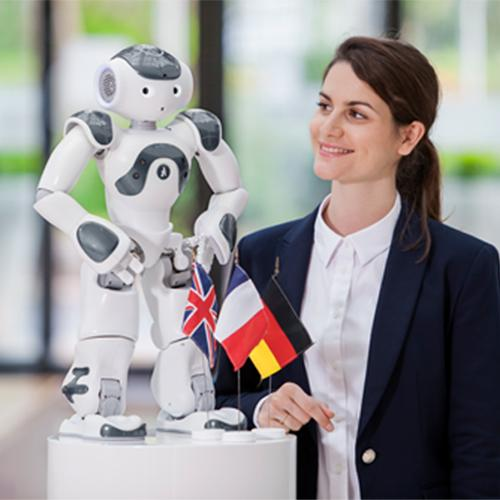nao: (14, 34, 269, 453)
